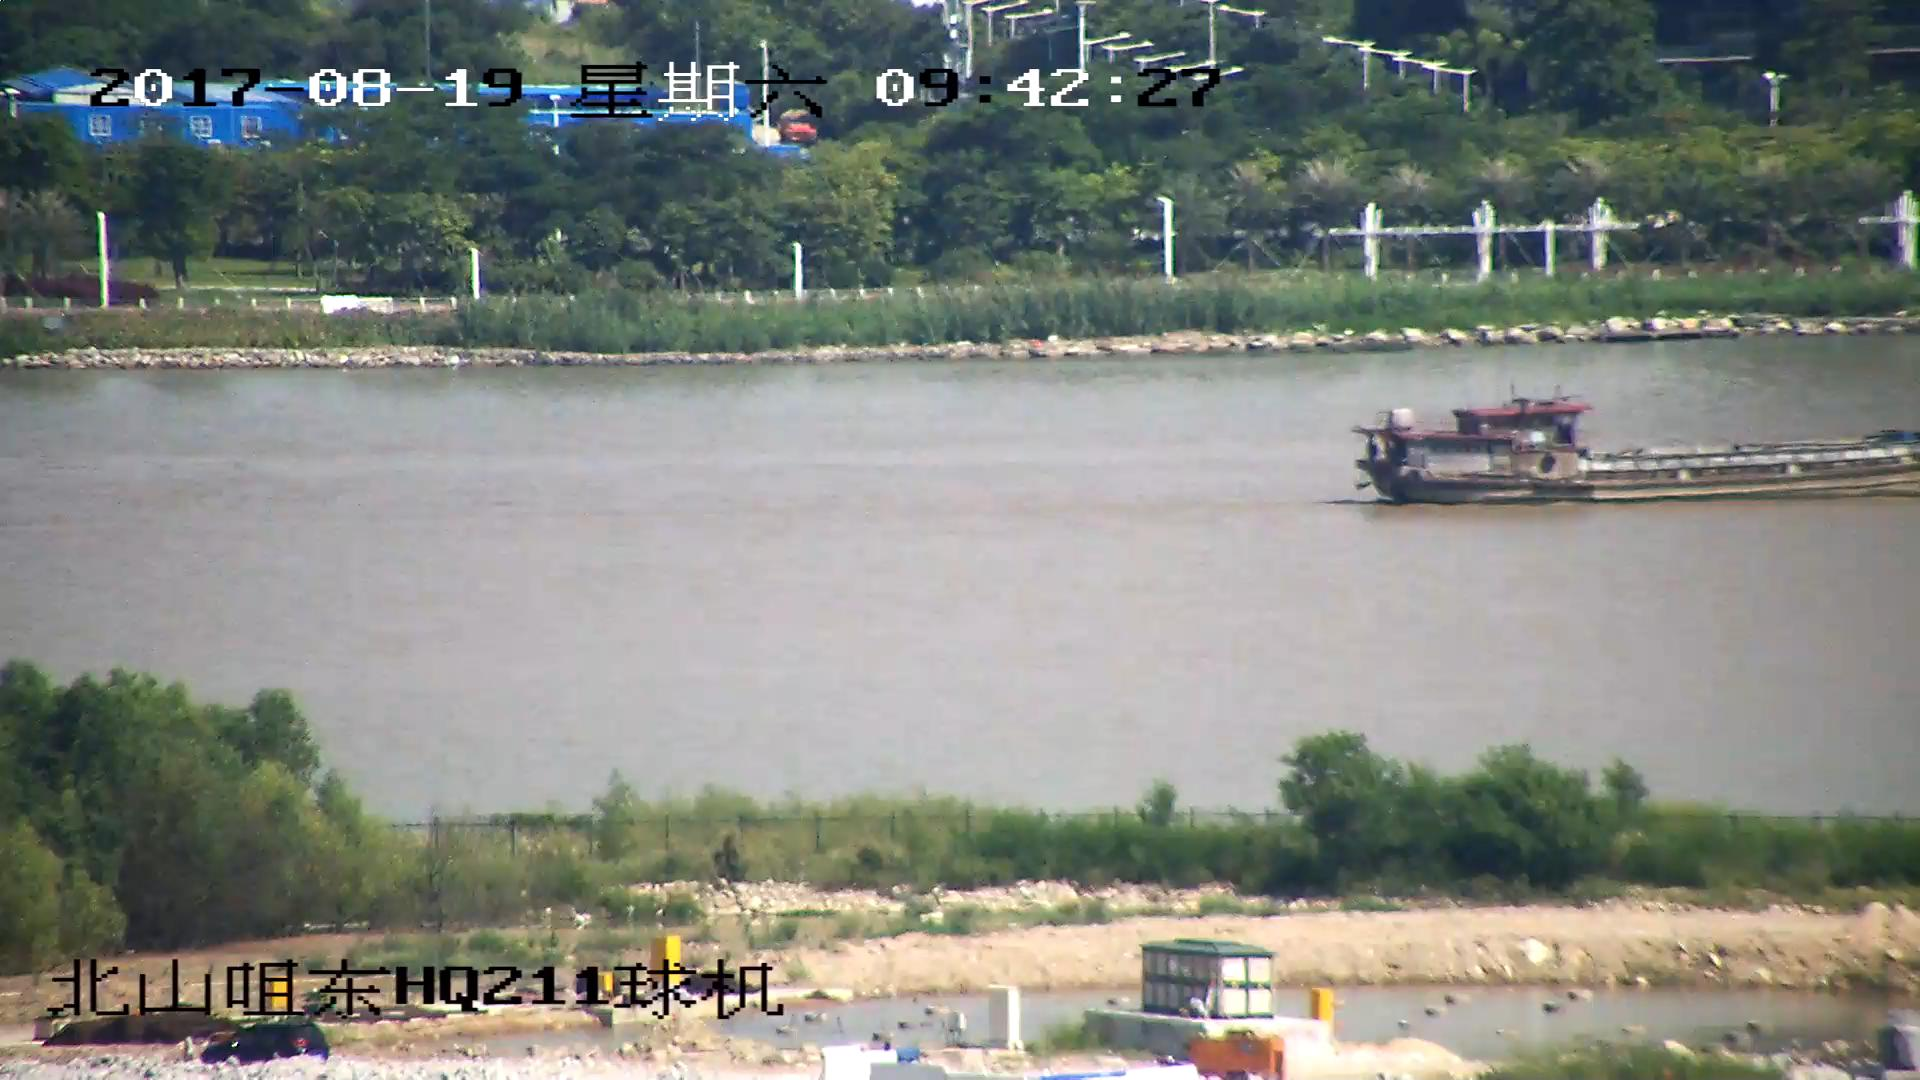fishing boat: (1351, 403, 1920, 505)
